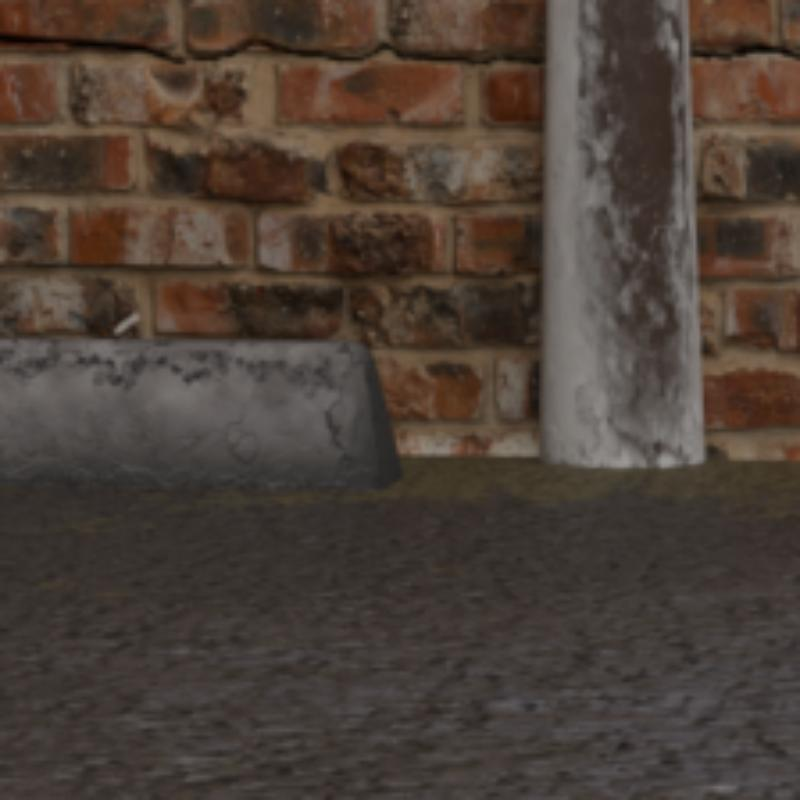crack: (0, 32, 543, 64), (689, 43, 796, 57)
